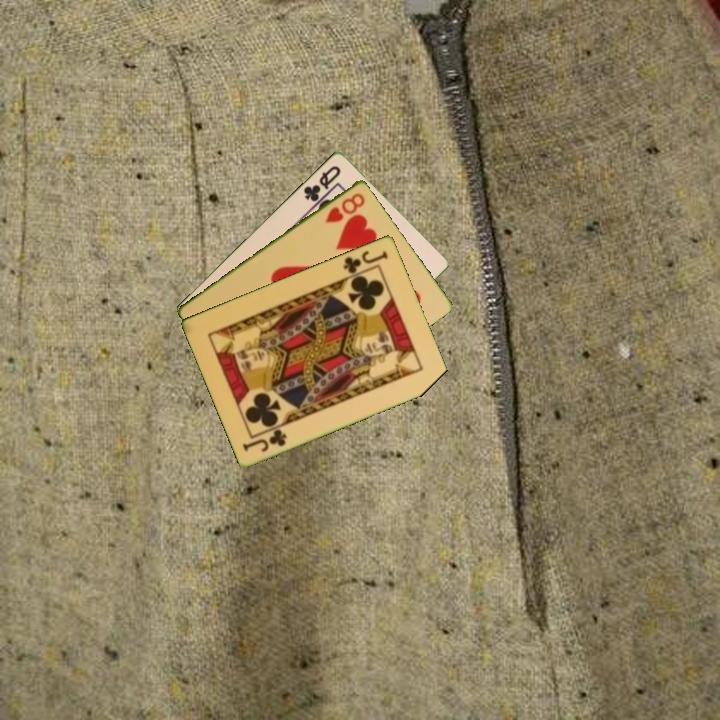8h: (322, 189, 368, 226)
Jc: (340, 247, 391, 276), (239, 425, 290, 454)
Qc: (300, 161, 344, 204)
